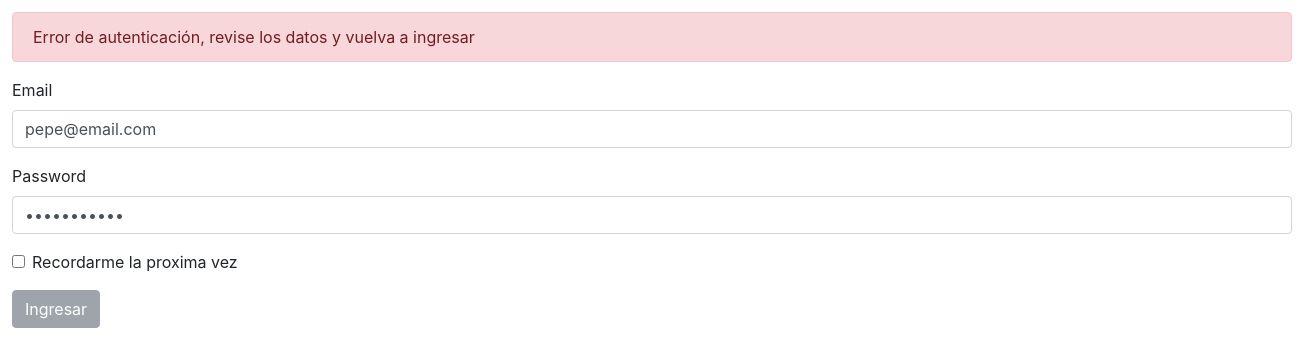
The Login component › should show enabled the login button when login failed but user modifiyes email or password
The image size is (1304, 345).
Replace the text in the field labelled "Email" with "a" at point(652, 129), box [12, 110, 1292, 148]
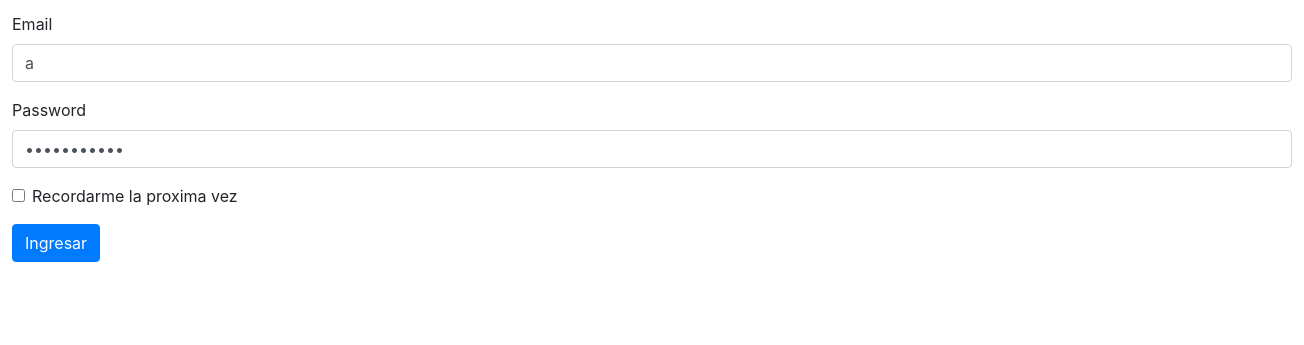
Result: the button "Ingresar" is enabled at [12, 224, 100, 262]
